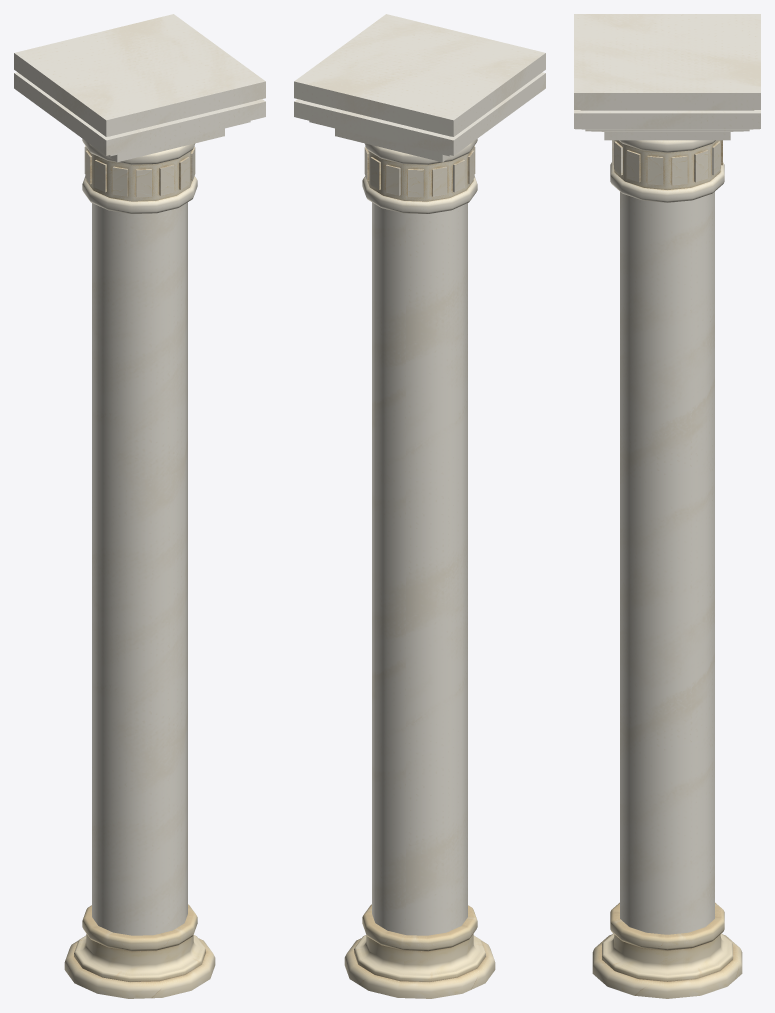
File: Tall_pillar.fbx
3 renders of one model, left to right at view 1: azimuth 30°, elevation 25°; view 2: azimuth 150°, elevation 25°; view 3: azimuth 270°, elevation 25°, orthographic.
Parts seen in each view (by area): view 1: Tall_pillar; view 2: Tall_pillar; view 3: Tall_pillar.
Boxes of the visible parts, <box> form: Tall_pillar: <box>14,14,265,998</box>; Tall_pillar: <box>294,14,545,998</box>; Tall_pillar: <box>574,14,760,998</box>.
Bounding box in the file's own units: 1.63 × 8.76 × 1.63.
